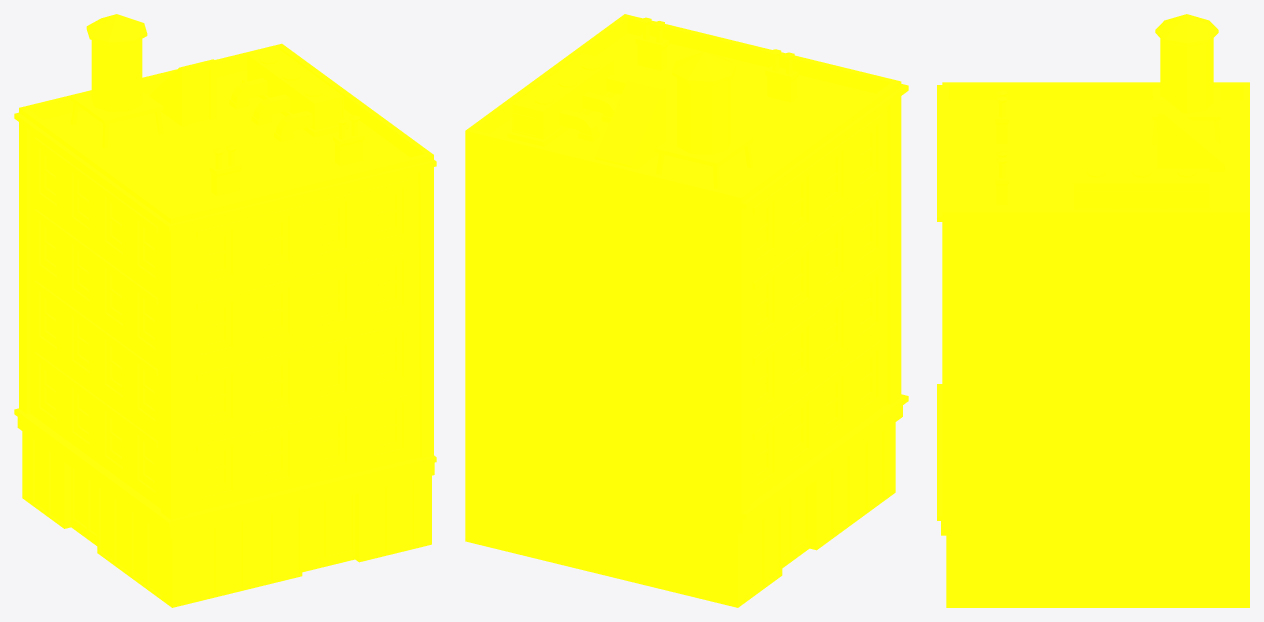
The model's file is building-block-4floor-corner.glb.
3 views of the same model, side by side, from view 1: azimuth 30°, elevation 25°; view 2: azimuth 150°, elevation 25°; view 3: azimuth 270°, elevation 25° (orthographic). The views are drawn at different scales.
Visible parts, largest first — view 1: building-block-4floor-corner; view 2: building-block-4floor-corner; view 3: building-block-4floor-corner.
Boxes of the visible parts, <box> form: building-block-4floor-corner: <box>14,14,436,607</box>; building-block-4floor-corner: <box>465,14,908,607</box>; building-block-4floor-corner: <box>937,14,1249,607</box>.
Size of the model in its own units: 11.75 by 20.61 by 11.75.
1 material, 1 textured.
